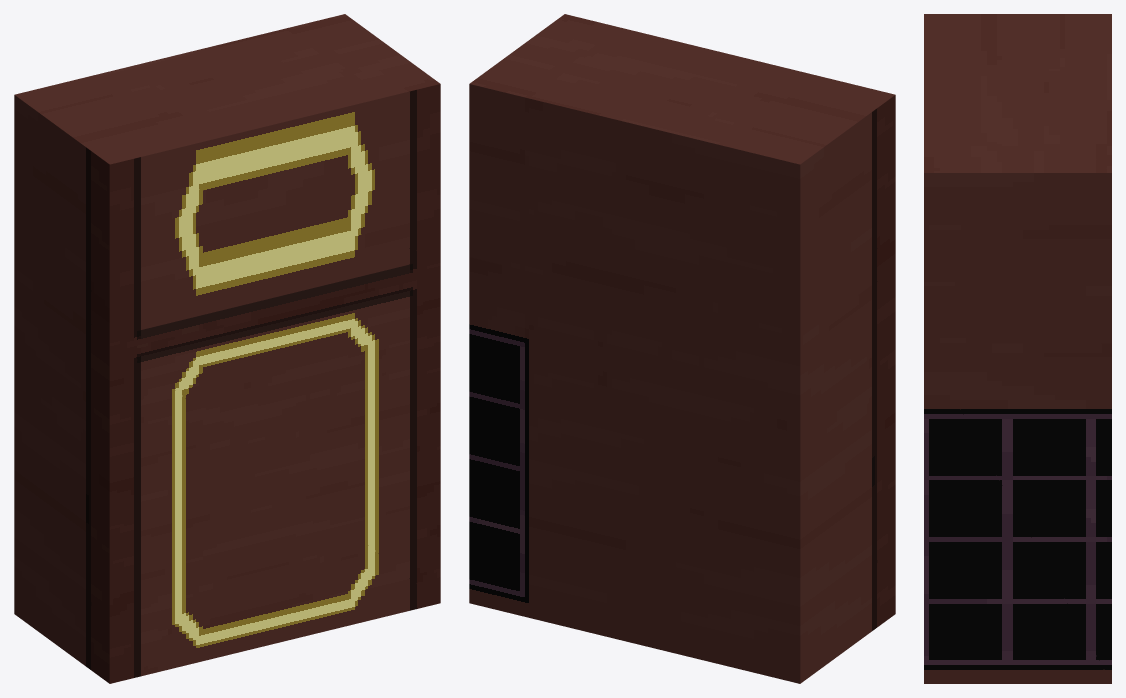
Rendered from library_wall.glb.
3 renders of one model, left to right at view 1: azimuth 30°, elevation 25°; view 2: azimuth 150°, elevation 25°; view 3: azimuth 270°, elevation 25°, orthographic.
Visible parts, largest first — view 1: Wall; view 2: Wall; view 3: Wall.
Part boxes in pixels (<box>): Wall: <box>14,14,440,683</box>; Wall: <box>469,14,895,683</box>; Wall: <box>924,14,1111,683</box>.
Bounding box in the file's own units: 4 × 6 × 2.
Materials: 1 (1 with a texture image).
